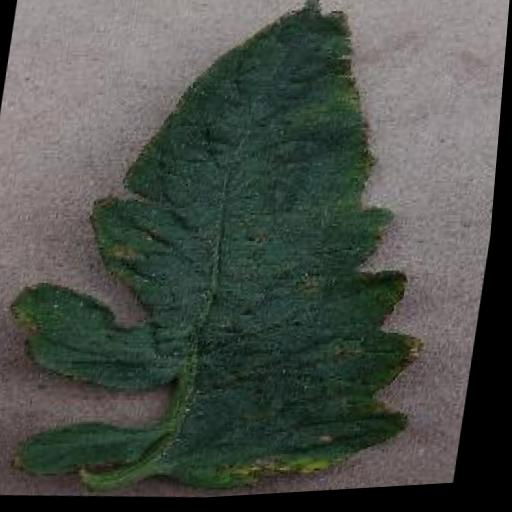Bacterial Spot: (0, 0, 481, 511)
